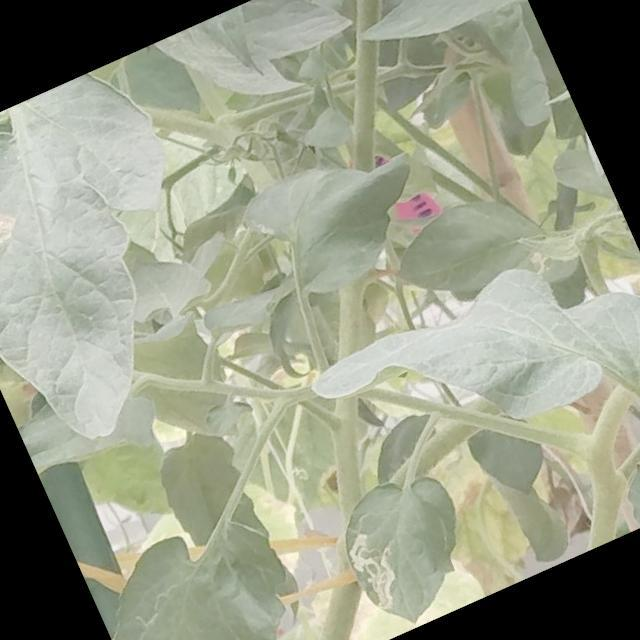Tomato target spot leaf: (0, 55, 264, 467), (320, 455, 496, 640)
